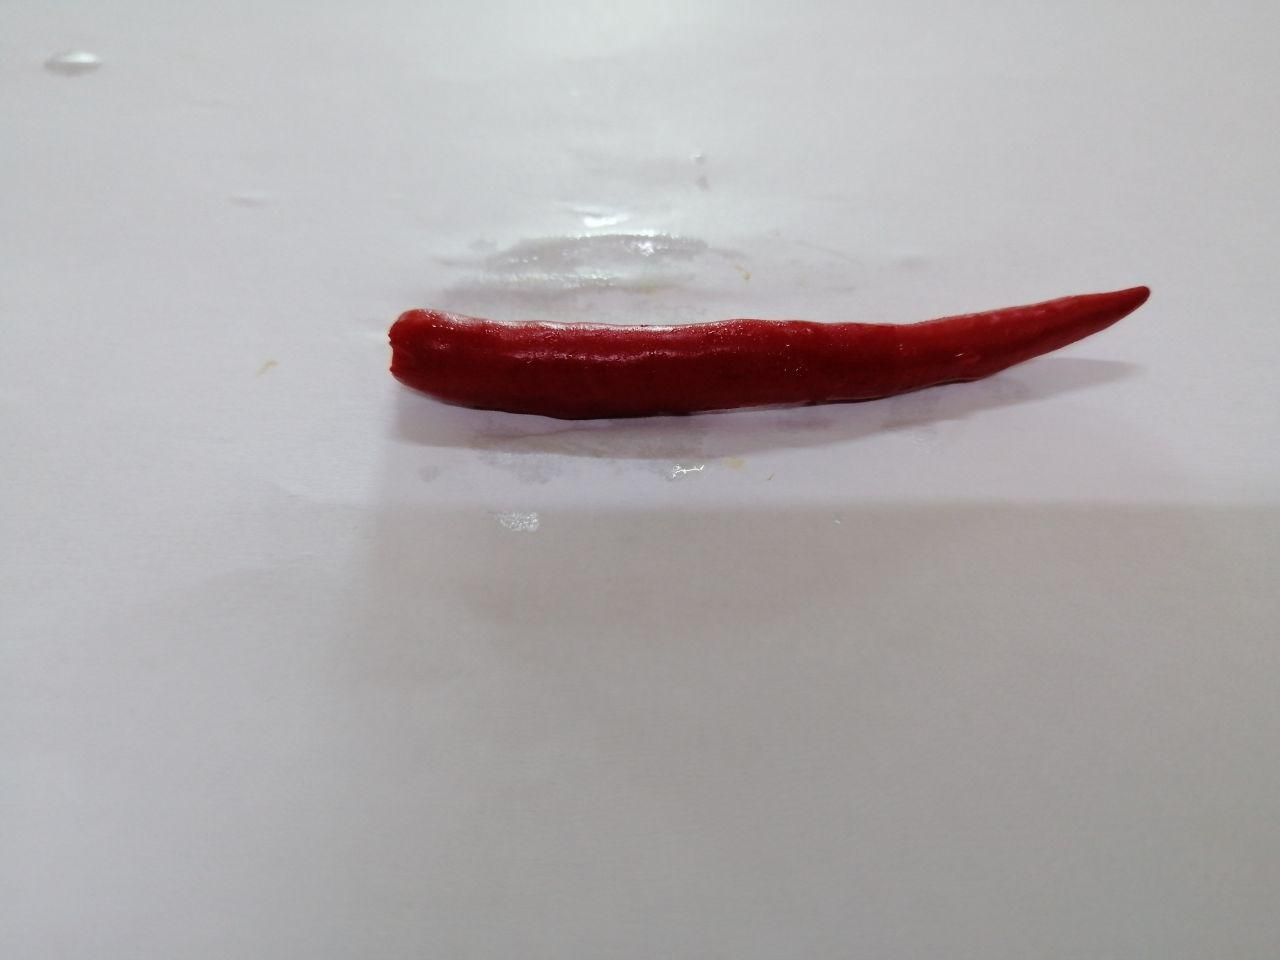lada merah: (360, 269, 1185, 442)
